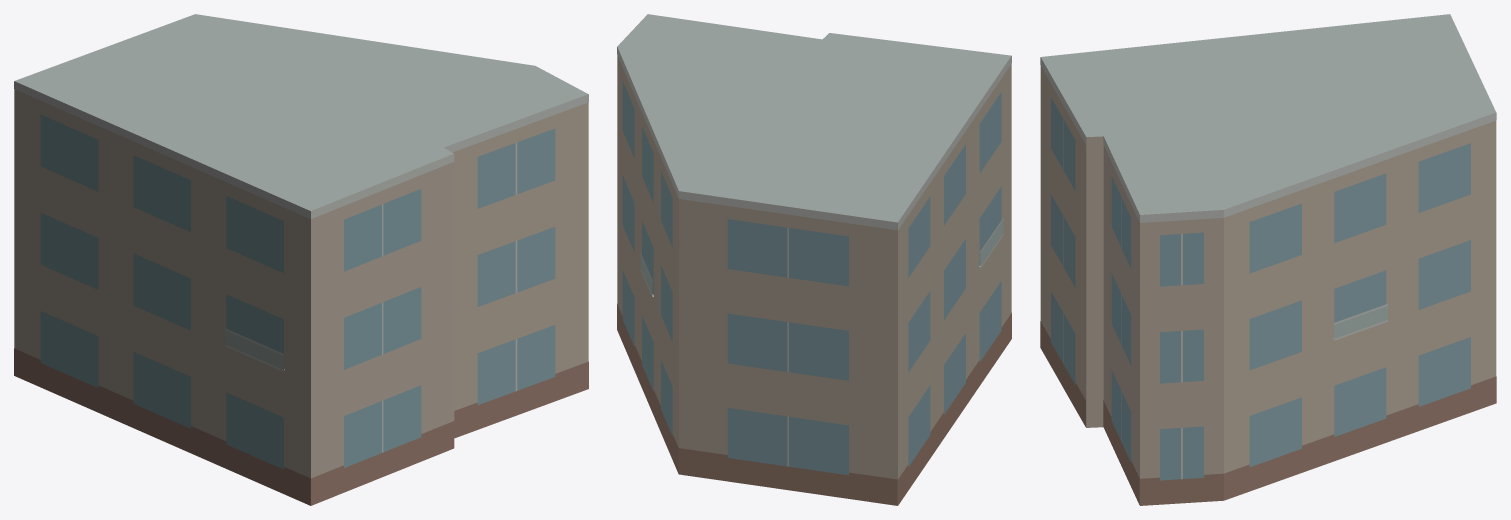
Rendered from survey-upis-32661998.glb.
3 views of the same model, side by side, from view 1: azimuth 30°, elevation 25°; view 2: azimuth 150°, elevation 25°; view 3: azimuth 270°, elevation 25° (orthographic). The views are drawn at different scales.
Parts seen in each view (by area): view 1: survey-upis-32661998.tmp; view 2: survey-upis-32661998.tmp; view 3: survey-upis-32661998.tmp.
Boxes of the visible parts, x1,y1,x2,y2 form: survey-upis-32661998.tmp: (14, 14, 588, 505); survey-upis-32661998.tmp: (617, 14, 1011, 505); survey-upis-32661998.tmp: (1040, 14, 1496, 505).
Bounding box in the file's own units: 13.2 × 8.9 × 12.65.
